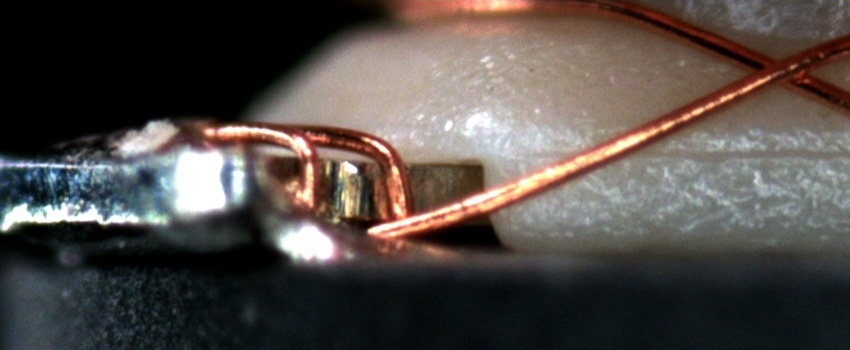CL: (727, 41, 827, 95)
DL: (527, 123, 850, 184)
TE: (196, 115, 417, 231)
